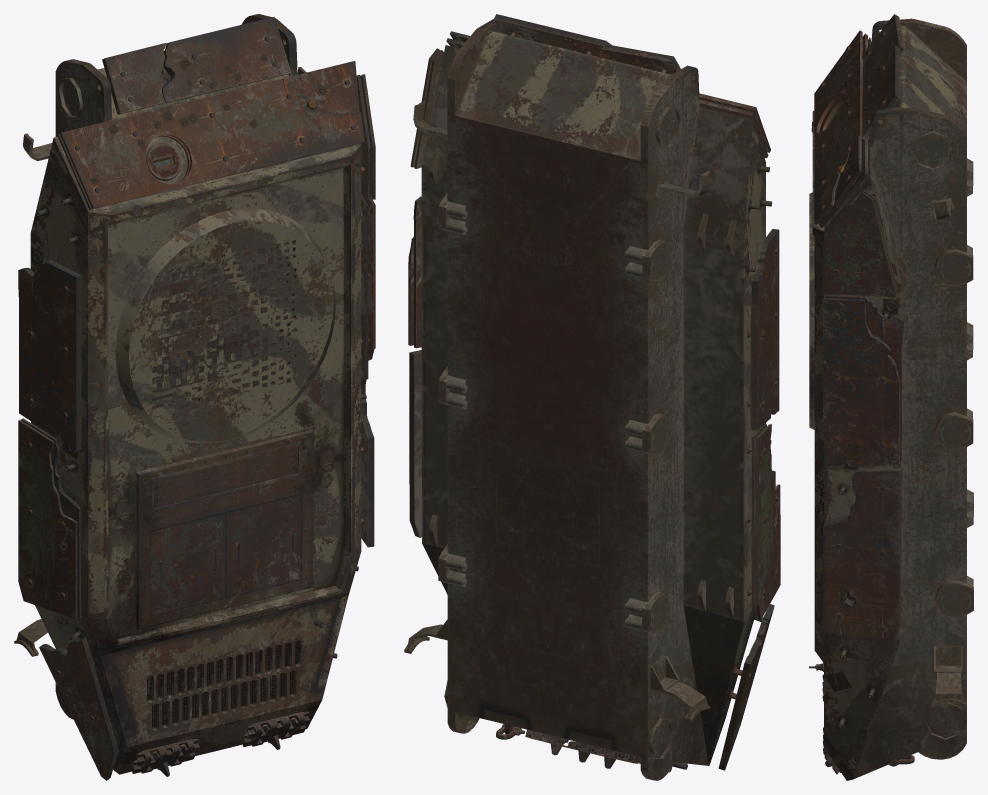
The model's file is Hull_02.glb.
3 renders of one model, left to right at view 1: azimuth 30°, elevation 25°; view 2: azimuth 150°, elevation 25°; view 3: azimuth 270°, elevation 25°, orthographic. The views are drawn at different scales.
Parts seen in each view (by area): view 1: set_0_group_0, set_0_group_2; view 2: set_0_group_0; view 3: set_0_group_0, set_0_group_2.
Part boxes in pixels (left/top/right/bottom): set_0_group_0: left=14, top=14, right=375, bottom=780; set_0_group_2: left=31, top=53, right=327, bottom=639; set_0_group_0: left=404, top=14, right=780, bottom=780; set_0_group_0: left=809, top=14, right=973, bottom=780; set_0_group_2: left=824, top=56, right=898, bottom=691.
Size of the model in its own units: 3.54 by 7.04 by 1.53.
Materials: 3 (3 with a texture image).
